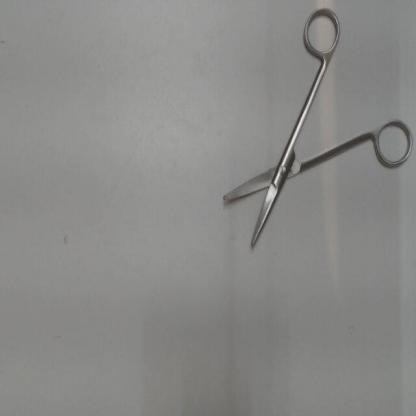Curved Mayo Scissors: (216, 2, 414, 254)
